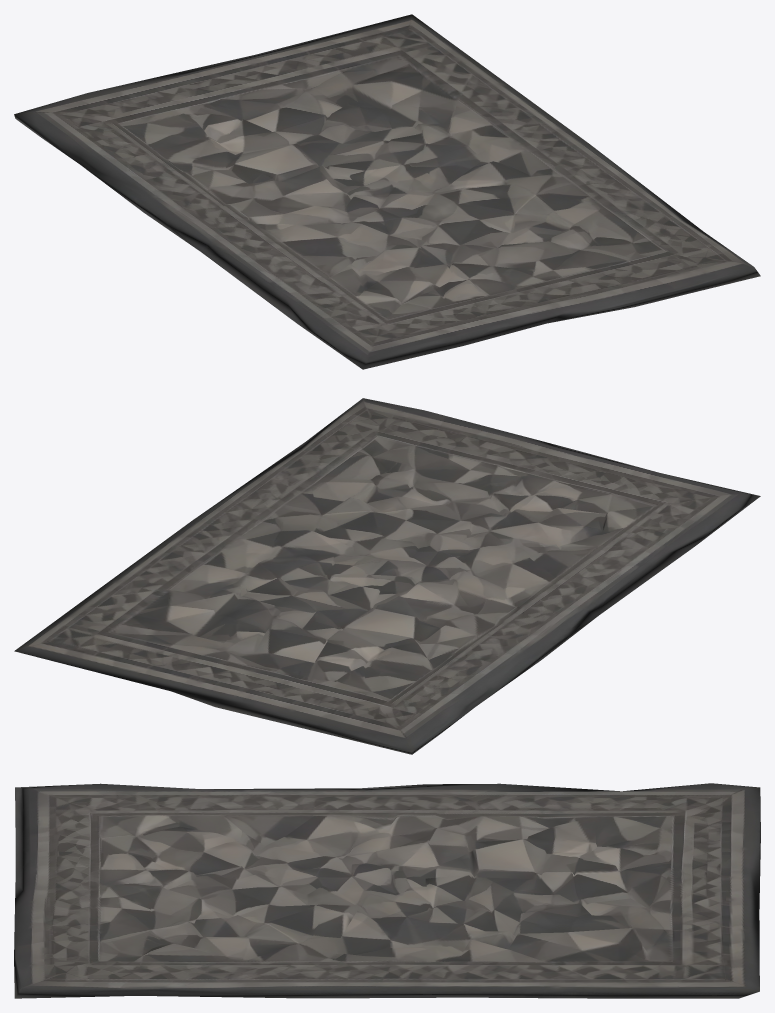
The model's file is geometric+rug+3d+model (1).glb.
3 views of the same model, one above another, from view 1: azimuth 30°, elevation 25°; view 2: azimuth 150°, elevation 25°; view 3: azimuth 270°, elevation 25° (orthographic). The views are drawn at different scales.
Visible parts, largest first — view 1: tripo_node_9650cefc-a65e-428d-869c-ca1fd4902d50; view 2: tripo_node_9650cefc-a65e-428d-869c-ca1fd4902d50; view 3: tripo_node_9650cefc-a65e-428d-869c-ca1fd4902d50.
Part boxes in pixels (left/top/right/bottom): tripo_node_9650cefc-a65e-428d-869c-ca1fd4902d50: left=14, top=14, right=760, bottom=369; tripo_node_9650cefc-a65e-428d-869c-ca1fd4902d50: left=14, top=398, right=760, bottom=754; tripo_node_9650cefc-a65e-428d-869c-ca1fd4902d50: left=14, top=783, right=760, bottom=998.
Bounding box in the file's own units: 0.6585 × 0.0252 × 1.
1 material, 1 textured.
